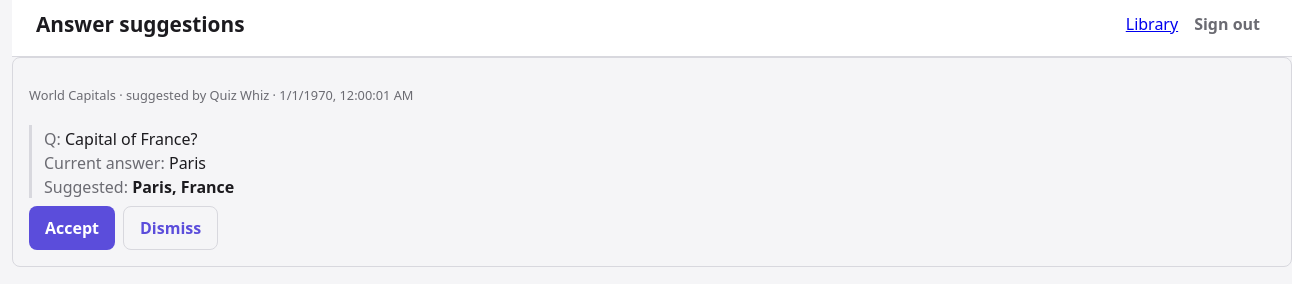
AdminSuggestionsPage › dismisses a suggestion and removes the row
This screenshot has width=1292, height=284.
Click the button "Dismiss" at (171, 228), box [123,206,218,250]
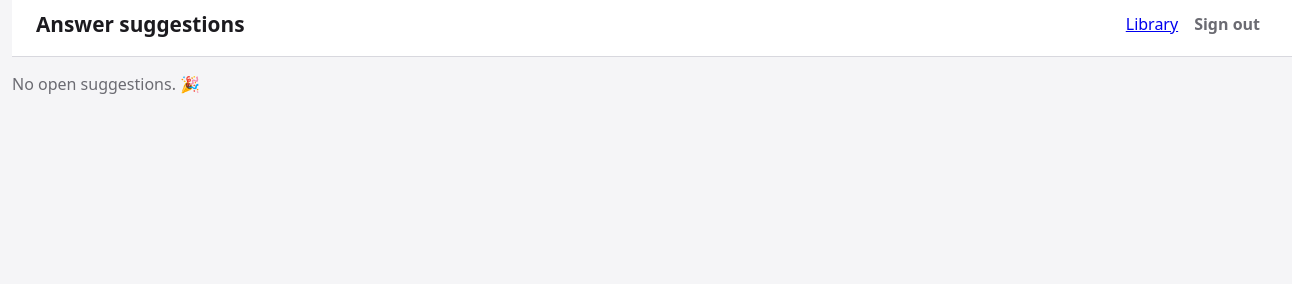
Check: the text "Paris, France" is gone
